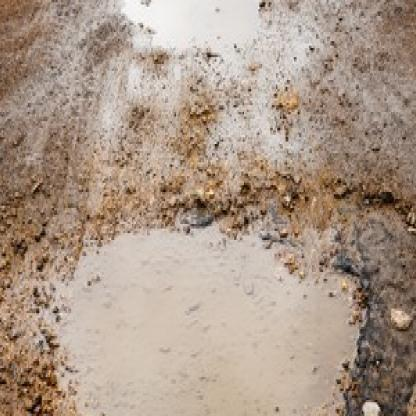pothole: (19, 211, 368, 416), (124, 0, 266, 57)
